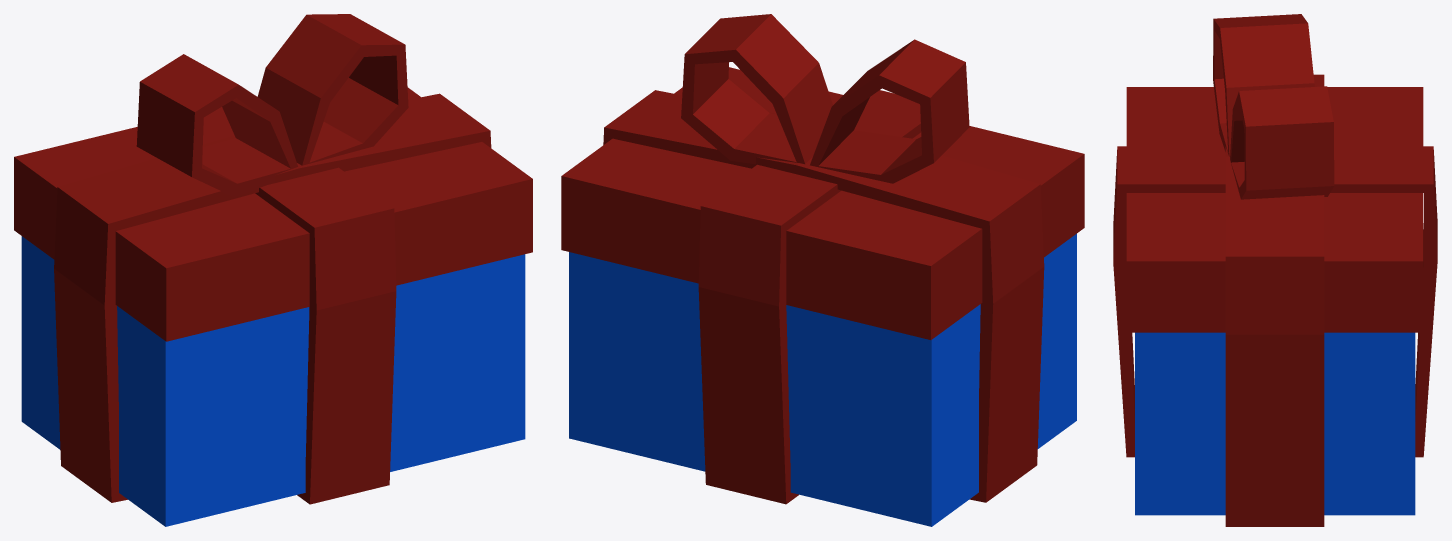
The model's file is GiftBox.fbx.
The picture shows the model from 3 angles, left to right: view 1: azimuth 30°, elevation 25°; view 2: azimuth 150°, elevation 25°; view 3: azimuth 270°, elevation 25°; orthographic projection. The views are drawn at different scales.
Parts seen in each view (by area): view 1: Giftbox_1_mesh.001, Giftbox_1_mesh, Giftbox_1_mesh.002; view 2: Giftbox_1_mesh.001, Giftbox_1_mesh, Giftbox_1_mesh.002; view 3: Giftbox_1_mesh.001, Giftbox_1_mesh.002, Giftbox_1_mesh.
Part boxes in pixels (<box>): Giftbox_1_mesh.001: <box>54,14,491,504</box>; Giftbox_1_mesh: <box>21,236,525,526</box>; Giftbox_1_mesh.002: <box>14,87,532,341</box>; Giftbox_1_mesh.001: <box>603,14,1044,504</box>; Giftbox_1_mesh: <box>569,233,1076,526</box>; Giftbox_1_mesh.002: <box>561,67,1084,339</box>; Giftbox_1_mesh.001: <box>1113,14,1437,526</box>; Giftbox_1_mesh.002: <box>1126,87,1423,332</box>; Giftbox_1_mesh: <box>1135,332,1415,515</box>.
Bounding box in the file's own units: 31.56 × 30.84 × 23.38.
